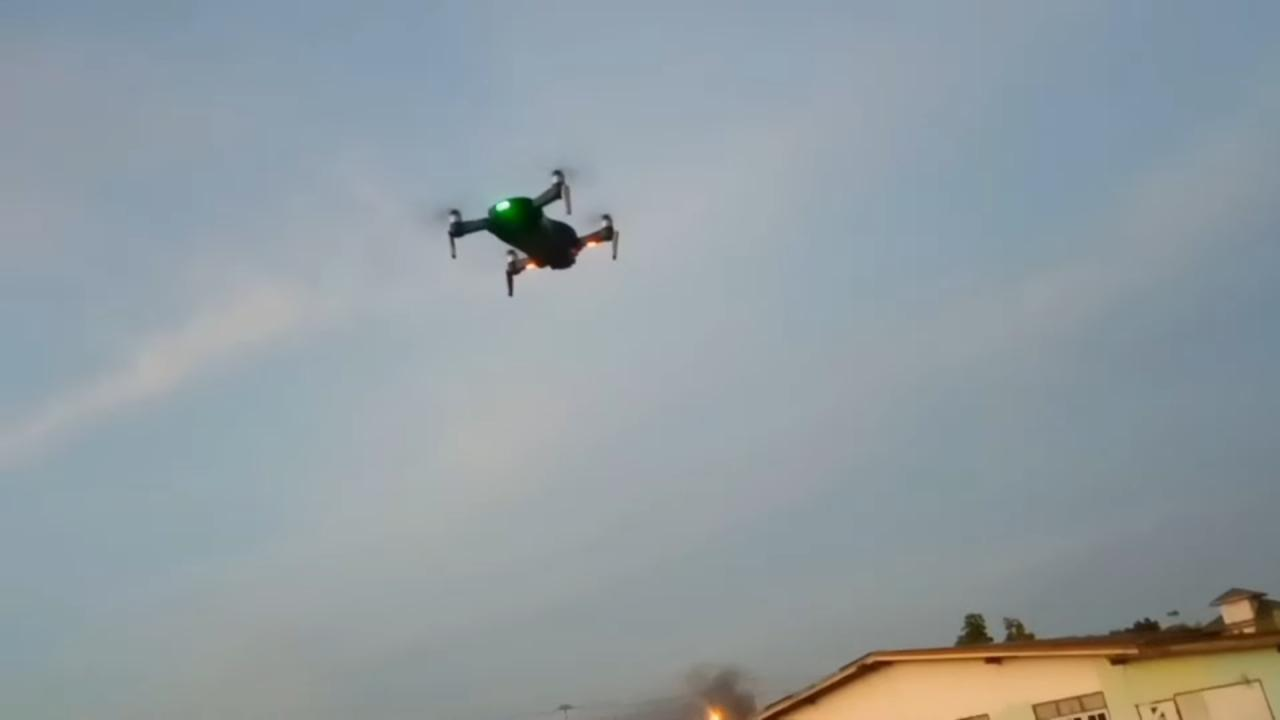Drone: (414, 147, 650, 311)
